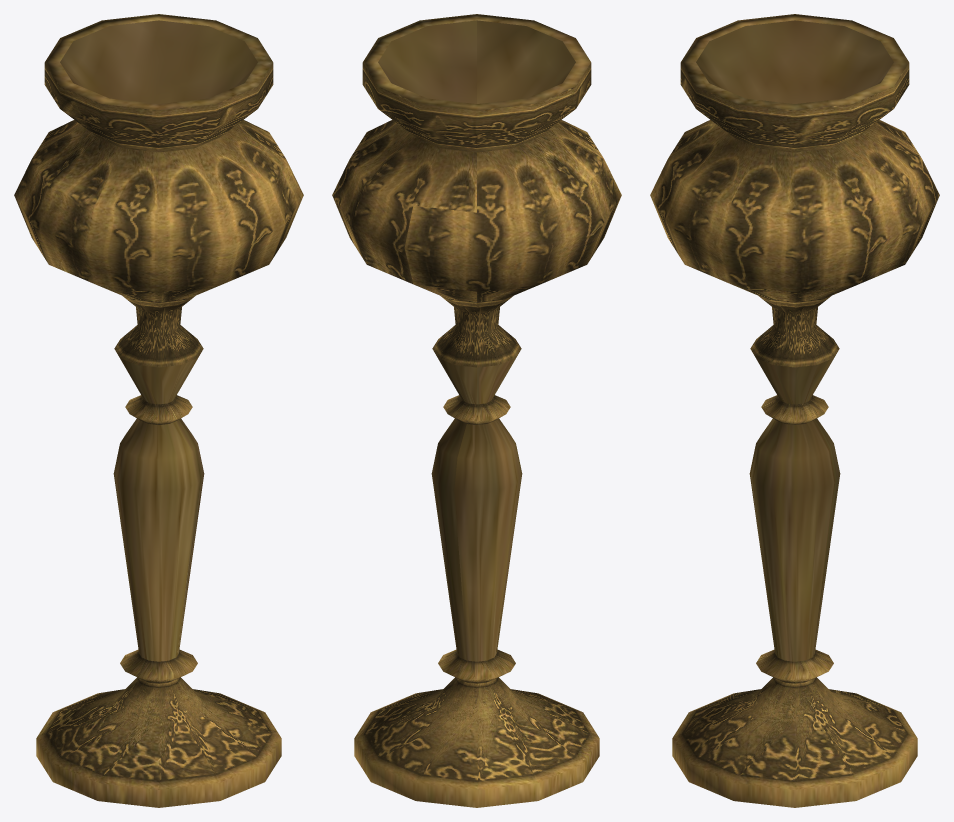
The model's file is Planter_Tall.fbx.
3 renders of one model, left to right at view 1: azimuth 30°, elevation 25°; view 2: azimuth 150°, elevation 25°; view 3: azimuth 270°, elevation 25°, orthographic.
Parts seen in each view (by area): view 1: Planter_Tall_LOD0; view 2: Planter_Tall_LOD0; view 3: Planter_Tall_LOD0.
Part boxes in pixels (left/top/right/bottom): Planter_Tall_LOD0: left=14, top=14, right=303, bottom=807; Planter_Tall_LOD0: left=332, top=14, right=621, bottom=807; Planter_Tall_LOD0: left=650, top=14, right=939, bottom=807.
Size of what is drawn, in the model's own units: 15.43 by 40.76 by 15.43.
